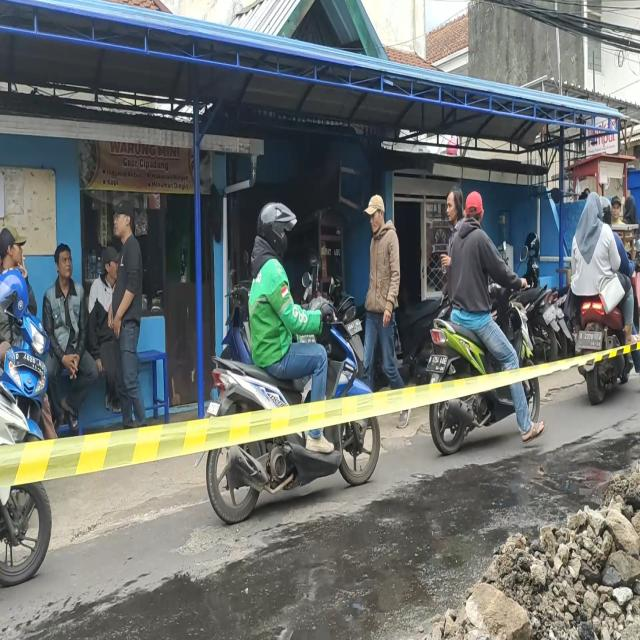helmet: (256, 200, 294, 250)
no-helmet: (464, 194, 484, 228), (580, 194, 601, 222)
